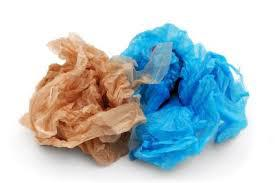Plastic: (88, 16, 257, 173), (16, 25, 150, 182)
